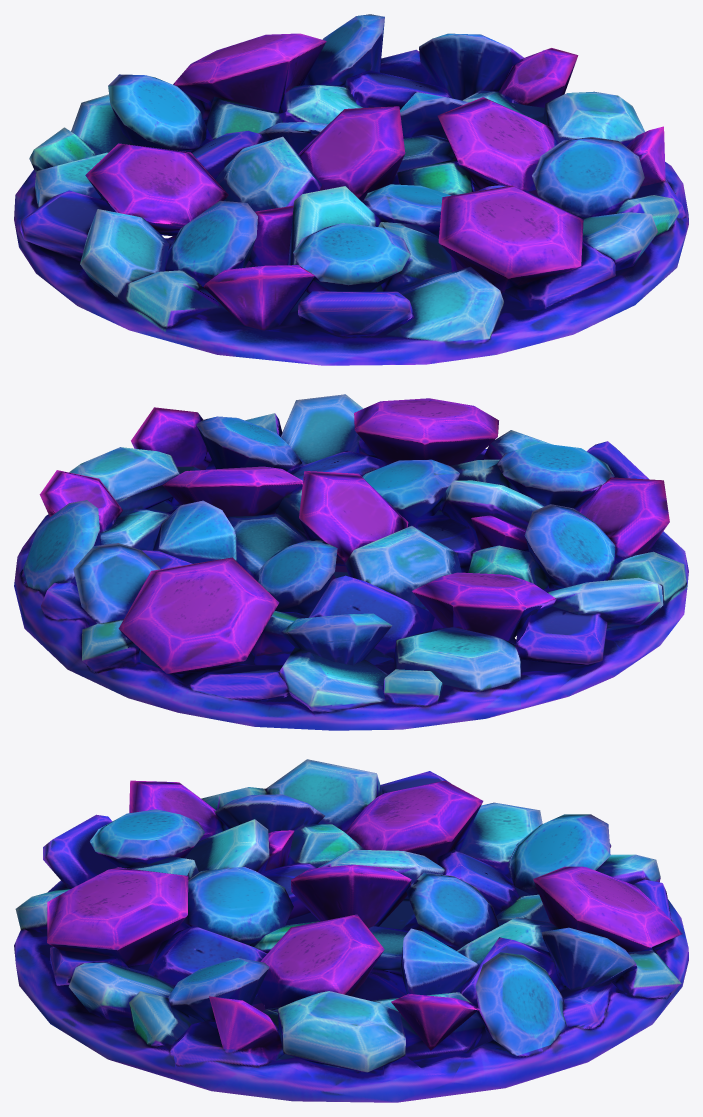
File: Stones.fbx
3 views of the same model, one above another, from view 1: azimuth 30°, elevation 25°; view 2: azimuth 150°, elevation 25°; view 3: azimuth 270°, elevation 25° (orthographic).
Visible parts, largest first — view 1: Stones_LOD0; view 2: Stones_LOD0; view 3: Stones_LOD0.
Part boxes in pixels (x1,y1,x2,y2): Stones_LOD0: [14, 14, 688, 365]; Stones_LOD0: [14, 394, 688, 730]; Stones_LOD0: [14, 759, 688, 1102].
Size of what is drawn, in the model's own units: 0.5027 by 0.0917 by 0.5025.
1 material, 1 textured.
